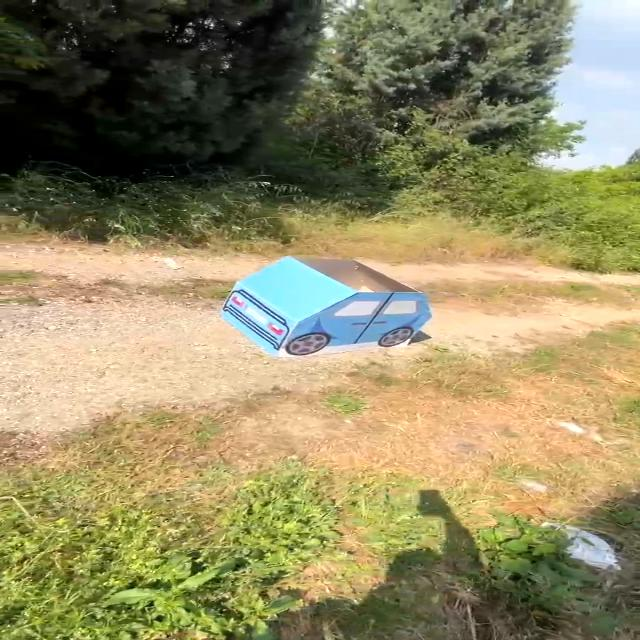blue_car: (203, 250, 447, 362)
